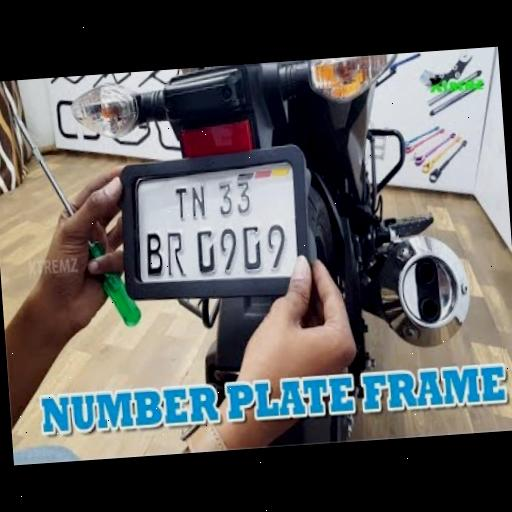number plate: (125, 161, 302, 293)
